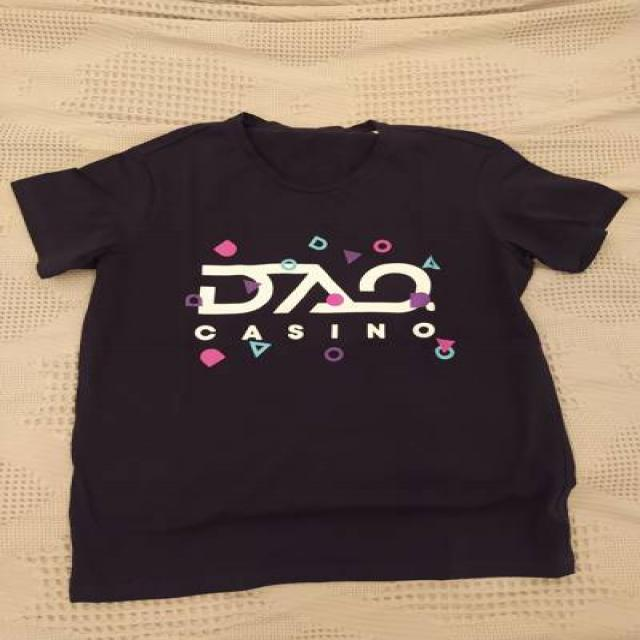Clothes -Biodegradable-: (13, 113, 628, 599)
